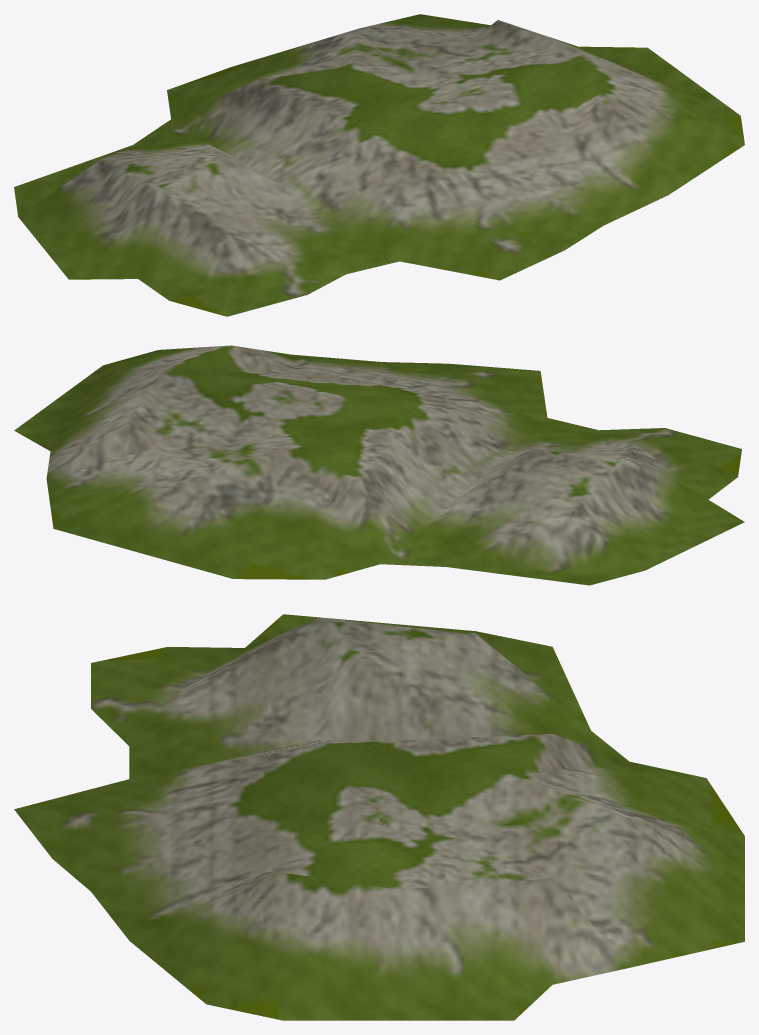
File: Terrain_24.fbx
3 views of the same model, one above another, from view 1: azimuth 30°, elevation 25°; view 2: azimuth 150°, elevation 25°; view 3: azimuth 270°, elevation 25° (orthographic). The views are drawn at different scales.
Visible parts, largest first — view 1: Terrain_24; view 2: Terrain_24; view 3: Terrain_24.
Boxes of the visible parts, x1,y1,x2,y2 form: Terrain_24: [14, 14, 744, 316]; Terrain_24: [14, 345, 744, 585]; Terrain_24: [14, 614, 744, 1020].
Bounding box in the file's own units: 51.02 × 4.52 × 38.78.
